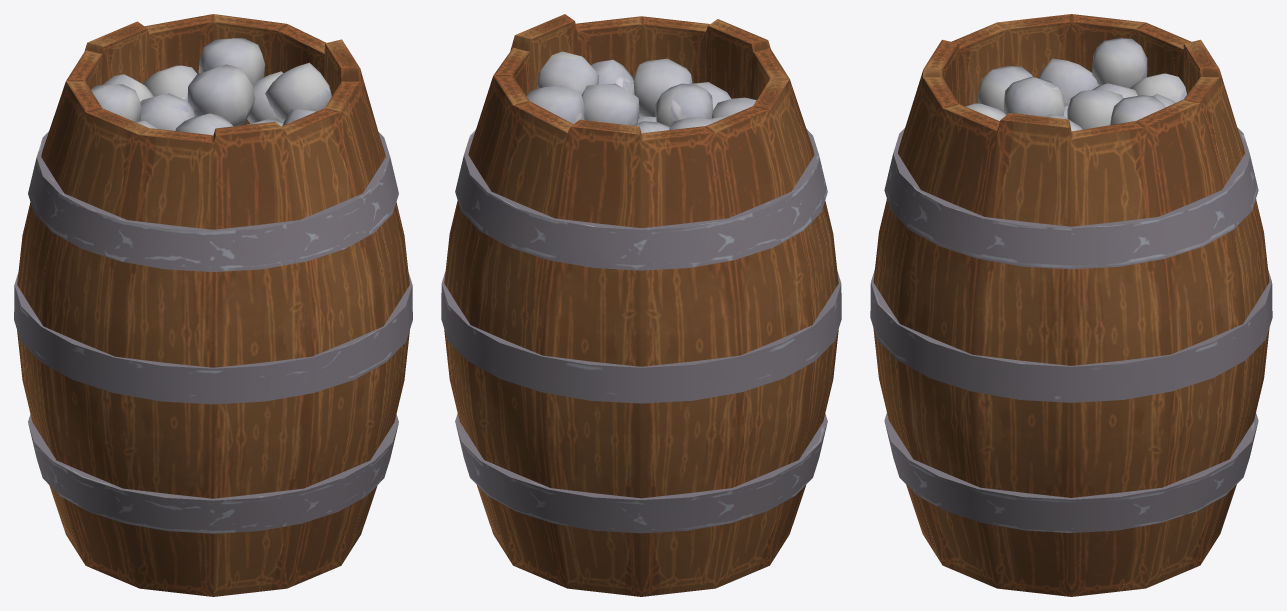
File: Barrel_Apples.gltf
The picture shows the model from 3 angles, left to right: view 1: azimuth 30°, elevation 25°; view 2: azimuth 150°, elevation 25°; view 3: azimuth 270°, elevation 25°; orthographic projection.
Parts seen in each view (by area): view 1: Barrel_Apples; view 2: Barrel_Apples; view 3: Barrel_Apples.
Part boxes in pixels (<box>): Barrel_Apples: <box>14,14,412,596</box>; Barrel_Apples: <box>441,14,841,596</box>; Barrel_Apples: <box>870,14,1272,596</box>.
Bounding box in the file's own units: 0.698 × 0.898 × 0.698.
Materials: 3 (3 with a texture image).
